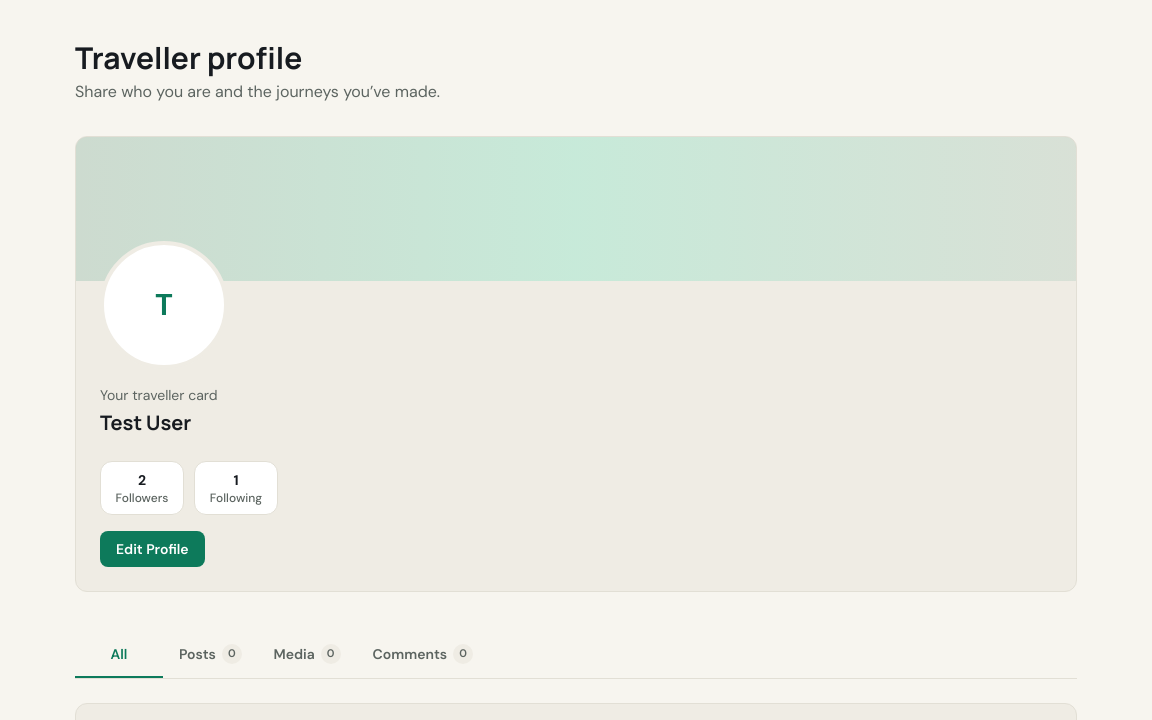
Test: Traveller profile content and photo › displays clickable Followers and Following counts and opens each connections list
Expected: the button "1 Following" is shown, [194,461,278,515]
Open Followers list
Click the button "2 Followers". click: (142, 488)
box: [100,461,184,515]
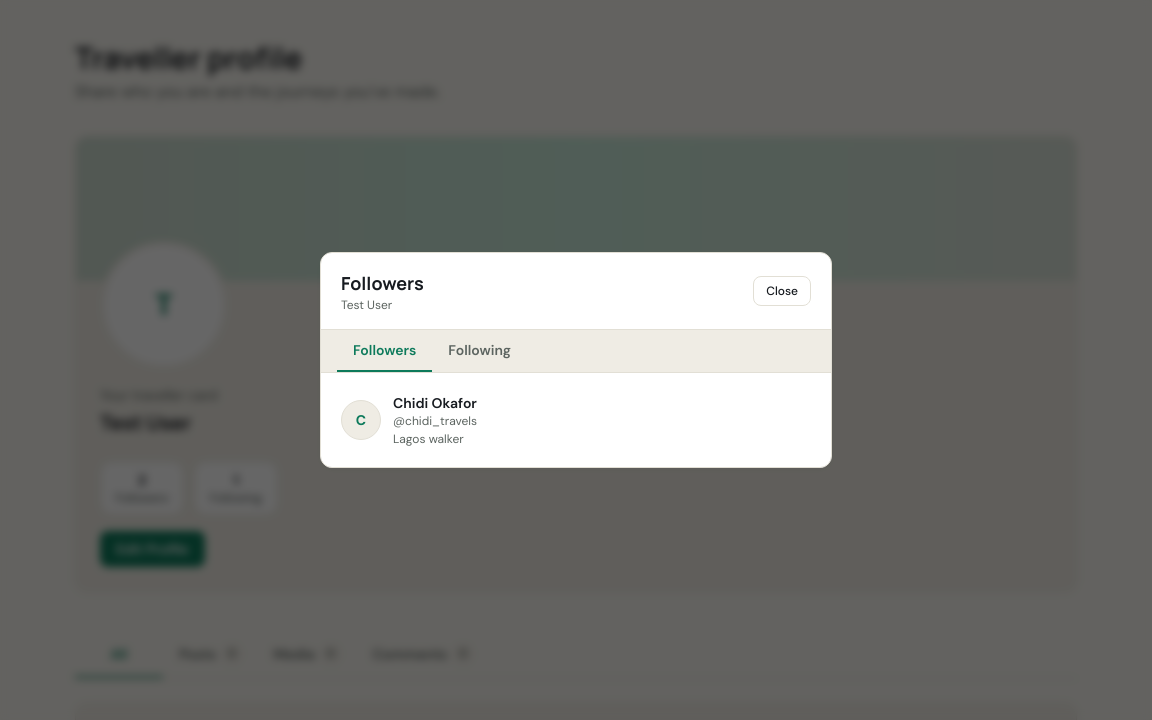
Switch to Following list and unfollow
Click the tab "Following". click: (480, 351)
box: [432,330,527,372]
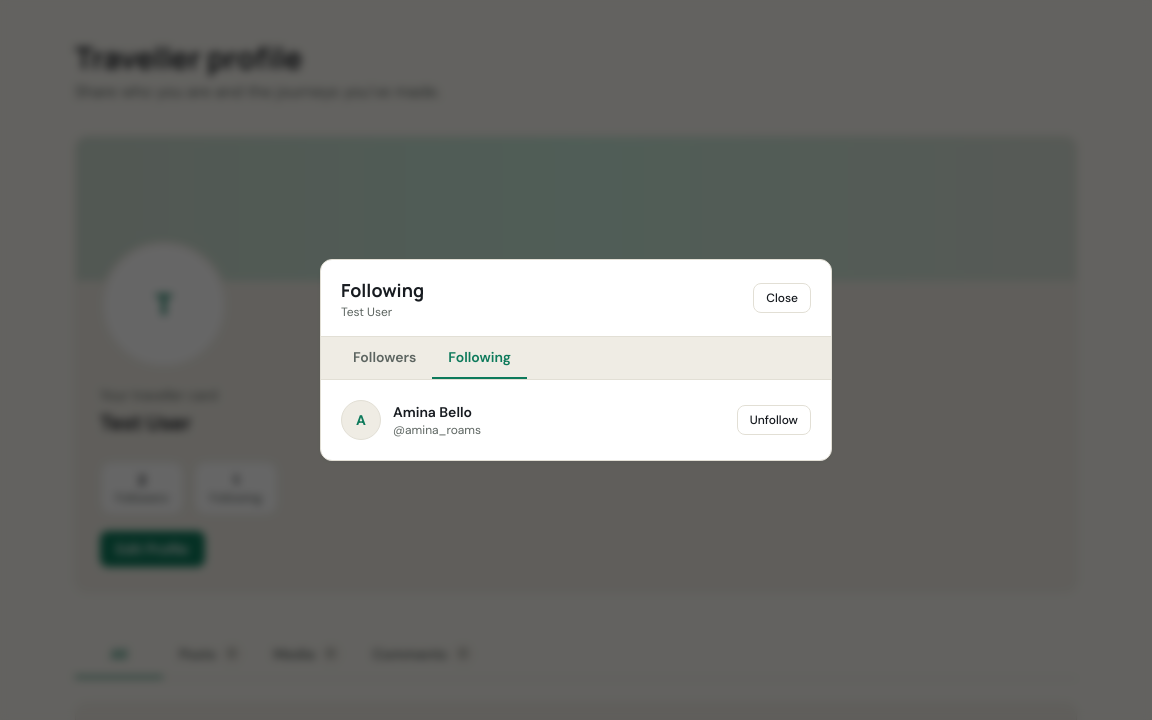
Now the link "A Amina Bello @amina_roams" has attribute href="/users/user-3", box [341,400,481,440]
Click the button "Unfollow". click: (774, 420)
box: [737,405,811,435]
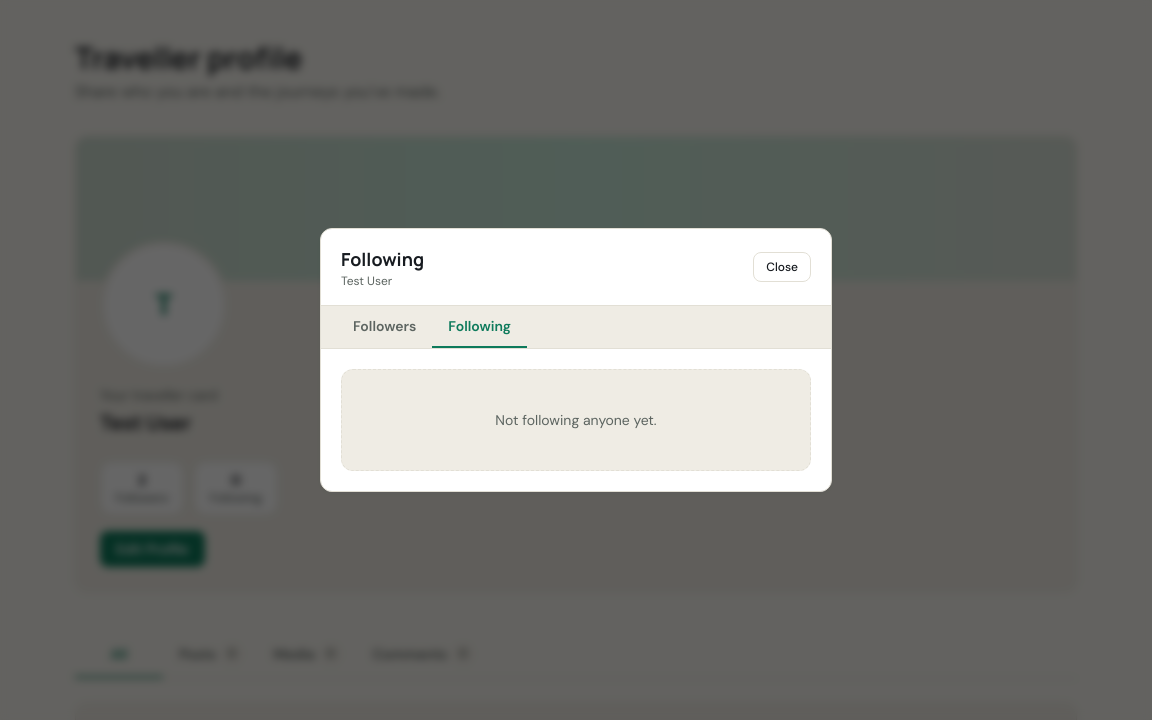
Now the text "Not following anyone yet." is shown, box [341,369,811,471]
